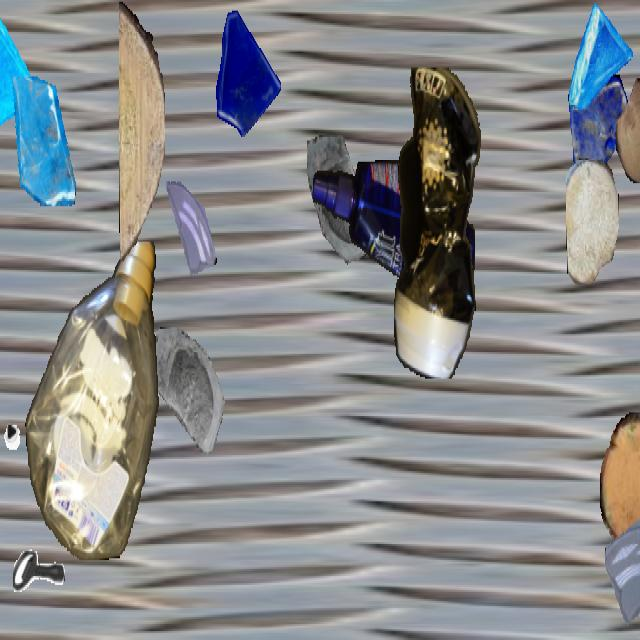glass: (305, 135, 391, 288), (153, 323, 237, 473), (207, 2, 283, 137), (6, 76, 78, 205), (566, 75, 632, 192), (567, 2, 633, 119), (161, 180, 219, 282), (0, 2, 34, 162), (605, 486, 640, 638)
metal: (13, 528, 65, 620), (0, 354, 25, 457)
plastic: (25, 242, 161, 558), (394, 67, 482, 377), (313, 160, 475, 306)
wood: (119, 2, 165, 261), (566, 158, 618, 283), (600, 413, 640, 551), (616, 78, 640, 182)
